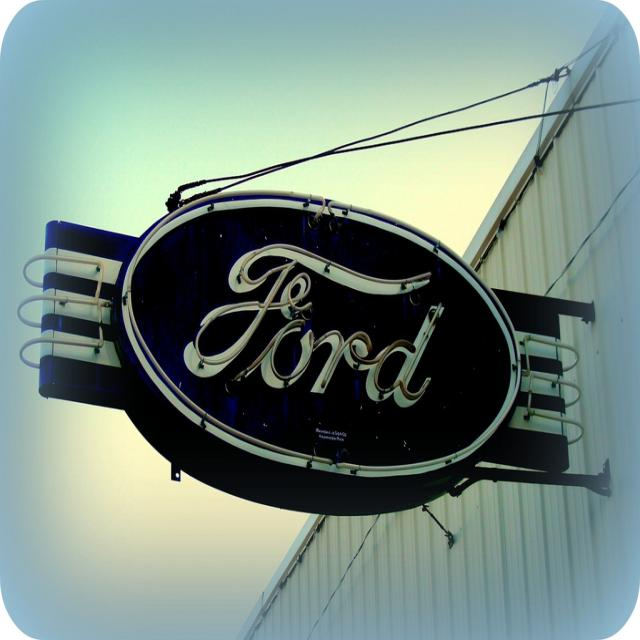ford: (112, 186, 525, 488)
